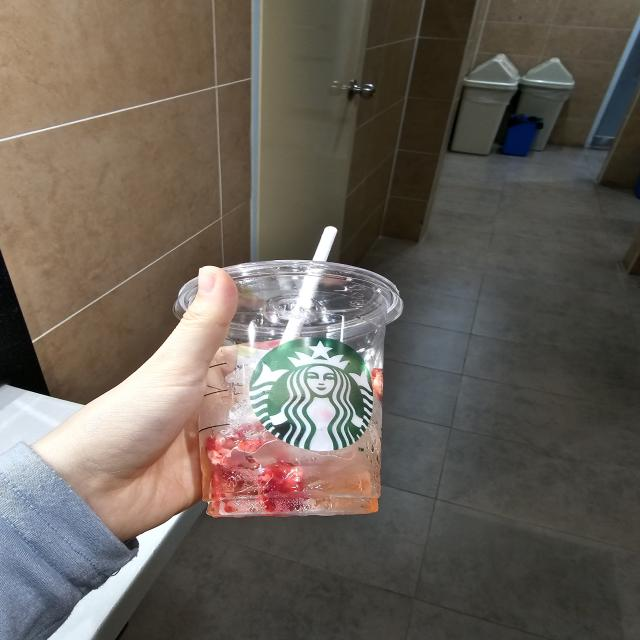cup: (162, 254, 413, 527)
